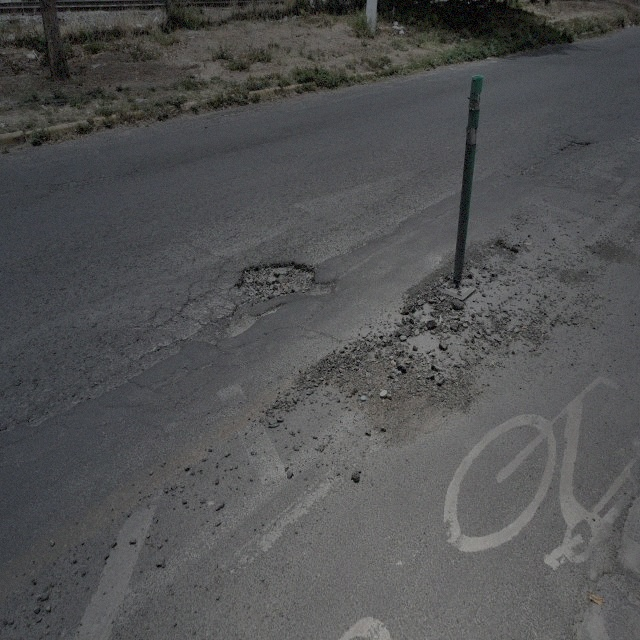pothole: (236, 256, 316, 304), (228, 313, 258, 343), (565, 138, 590, 154)
